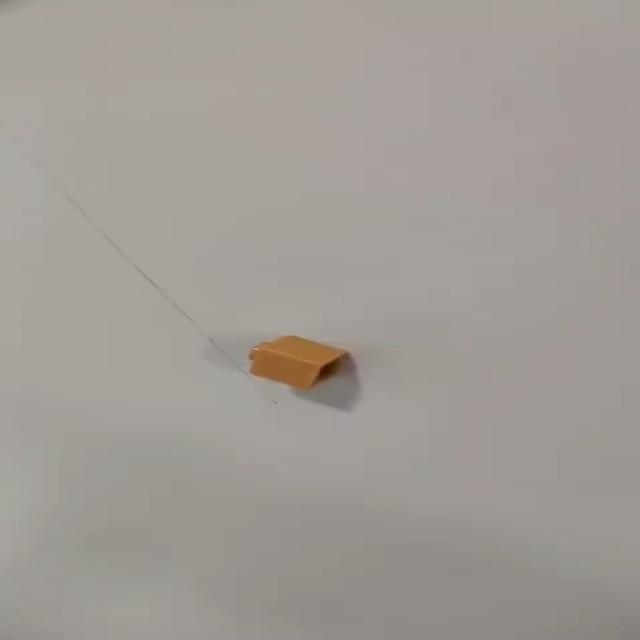C1x1x1: (245, 334, 348, 390)
